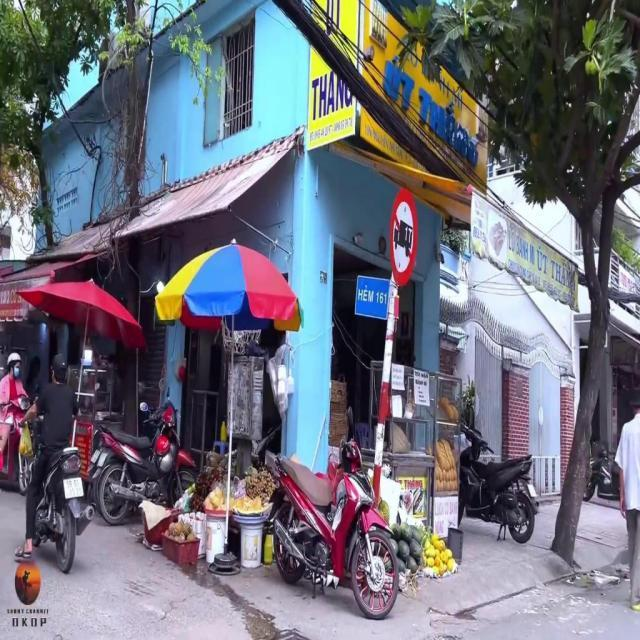106-cam-oto-tai: (390, 188, 418, 286)
